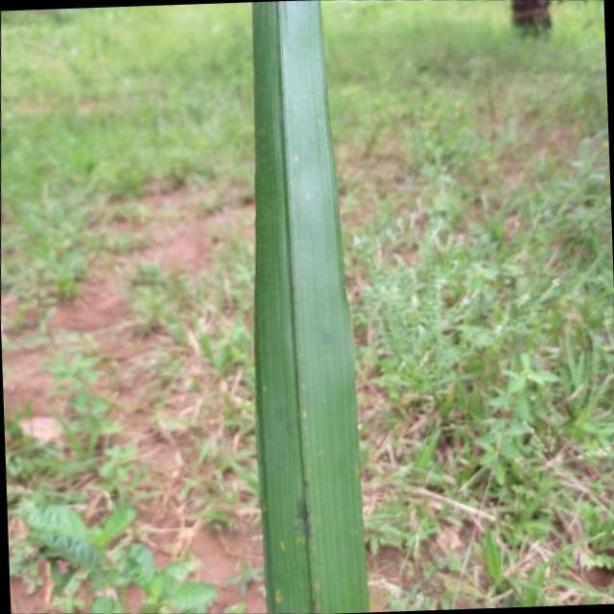Kalium: (248, 0, 368, 614)
